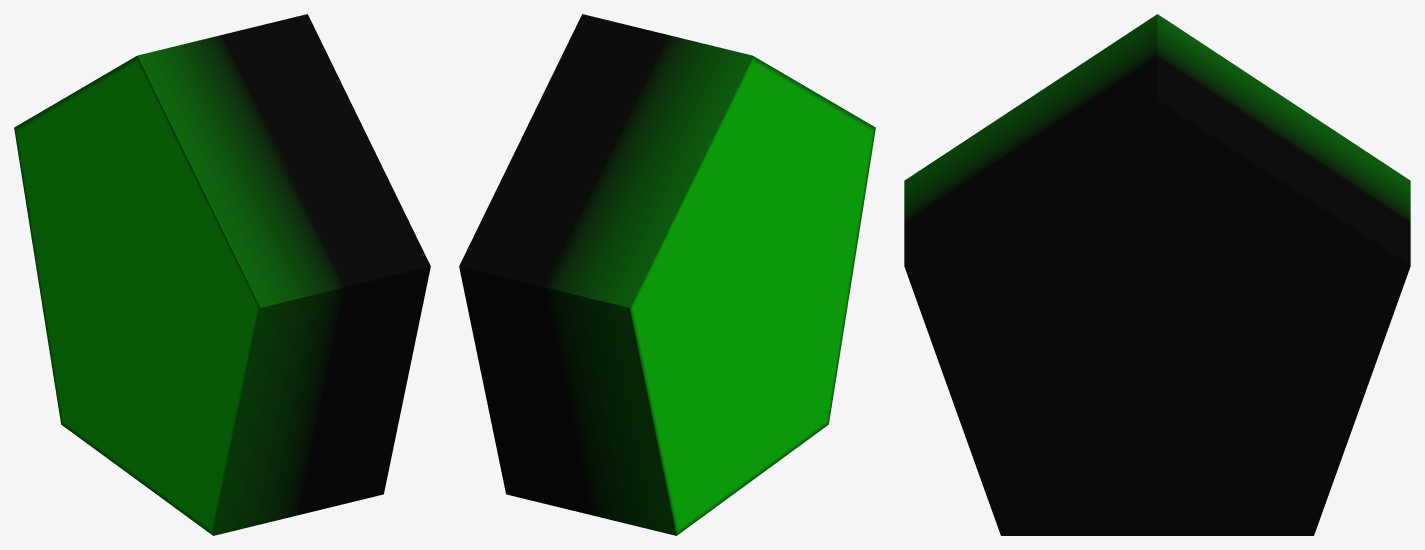
The model's file is Horn.fbx.
3 views of the same model, side by side, from view 1: azimuth 30°, elevation 25°; view 2: azimuth 150°, elevation 25°; view 3: azimuth 270°, elevation 25° (orthographic). The views are drawn at different scales.
Visible parts, largest first — view 1: Horn; view 2: Horn; view 3: Horn.
Boxes of the visible parts, x1=… form: Horn: x1=14, y1=14, x2=430, y2=535; Horn: x1=459, y1=14, x2=875, y2=535; Horn: x1=904, y1=14, x2=1410, y2=535.
Bounding box in the file's own units: 6.08 × 14.47 × 15.22.
